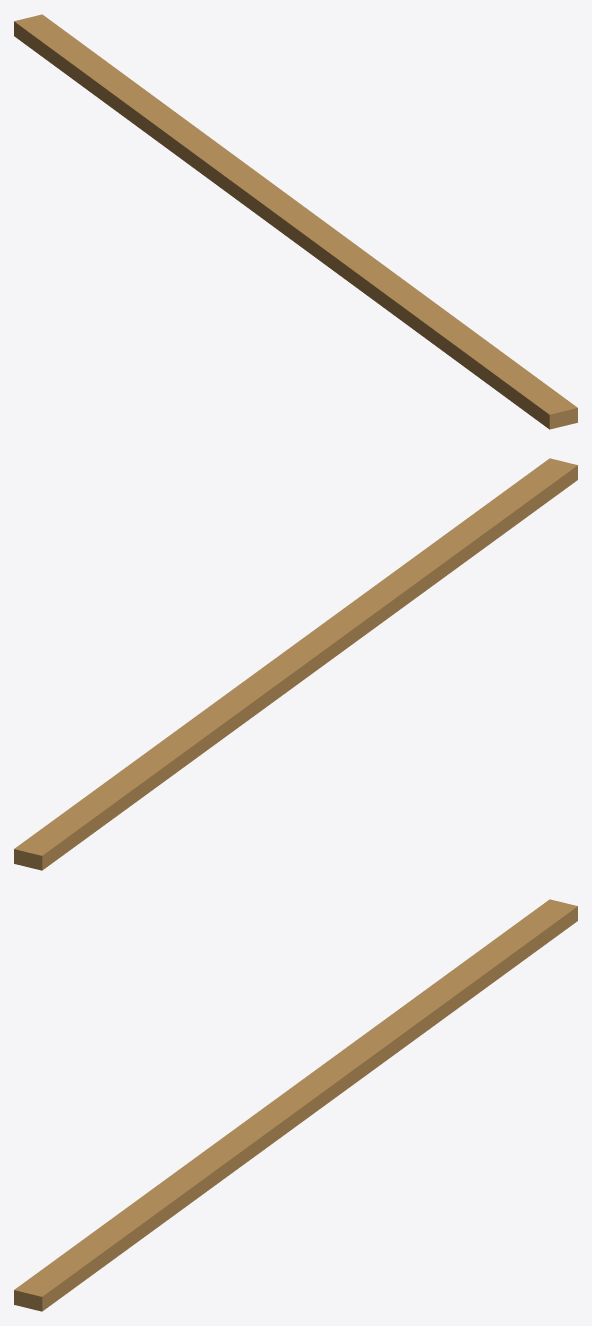
3 views of the same model, one above another, from view 1: azimuth 30°, elevation 25°; view 2: azimuth 150°, elevation 25°; view 3: azimuth 330°, elevation 25° (orthographic).
Visible parts, largest first — view 1: __delivery_mesh_5308; view 2: __delivery_mesh_5308; view 3: __delivery_mesh_5308.
Boxes of the visible parts, box(x1,y1,x2,y2) form: __delivery_mesh_5308: box(14, 14, 577, 429); __delivery_mesh_5308: box(14, 458, 577, 870); __delivery_mesh_5308: box(14, 899, 577, 1311).
Bounding box in the file's own units: 0.0947 × 0.045 × 2.95.
